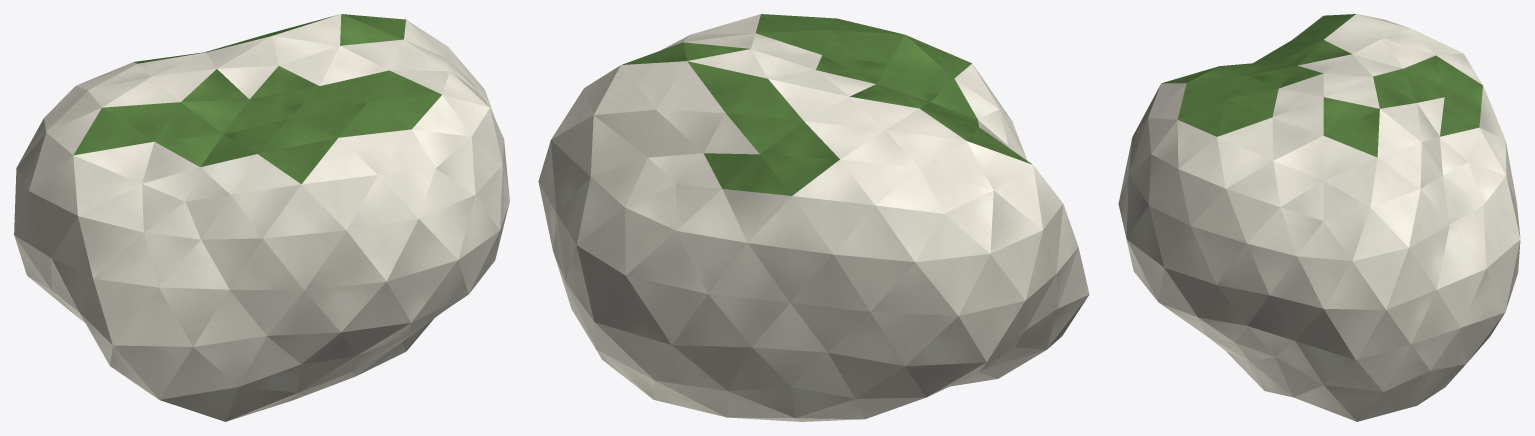
File: limestone_rock_b.fbx
3 views of the same model, side by side, from view 1: azimuth 30°, elevation 25°; view 2: azimuth 150°, elevation 25°; view 3: azimuth 270°, elevation 25° (orthographic). The views are drawn at different scales.
Visible parts, largest first — view 1: limestone_rock_b_Rock; view 2: limestone_rock_b_Rock; view 3: limestone_rock_b_Rock.
Part boxes in pixels (x1=…): limestone_rock_b_Rock: x1=14, y1=14, x2=509, y2=421; limestone_rock_b_Rock: x1=538, y1=14, x2=1089, y2=421; limestone_rock_b_Rock: x1=1118, y1=14, x2=1520, y2=421.
Bounding box in the file's own units: 12 × 7.32 × 9.52.
Materials: 1 (1 with a texture image).
